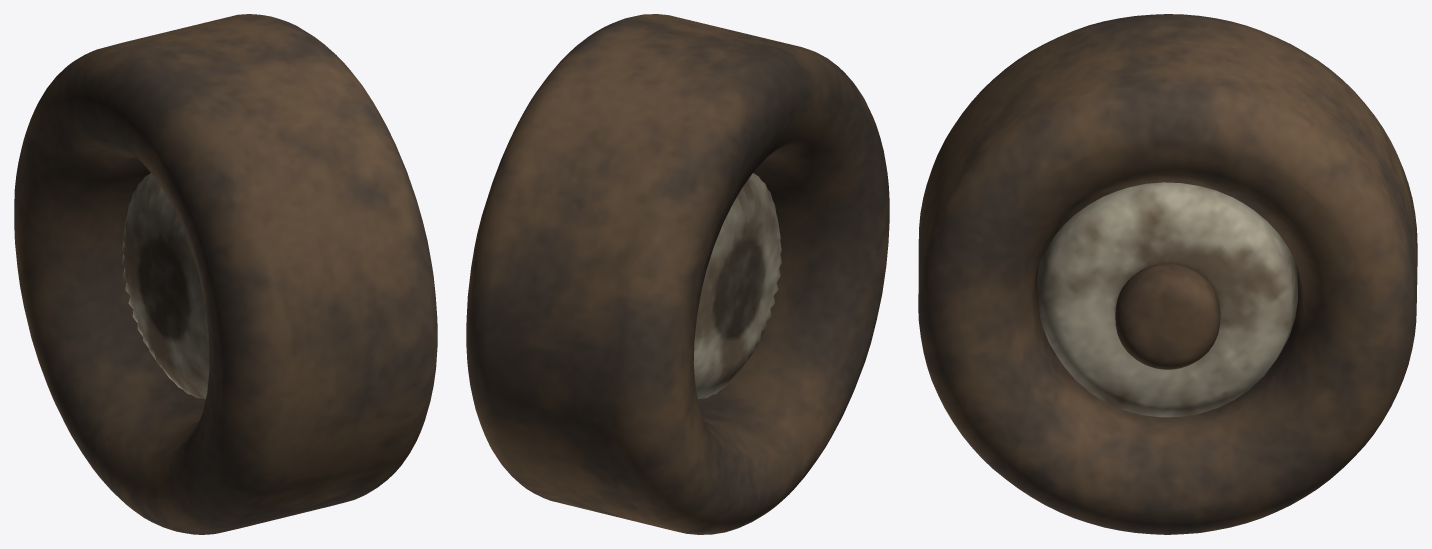
3 renders of one model, left to right at view 1: azimuth 30°, elevation 25°; view 2: azimuth 150°, elevation 25°; view 3: azimuth 270°, elevation 25°, orthographic.
Parts seen in each view (by area): view 1: wheel_RL; view 2: wheel_RL; view 3: wheel_RL.
Boxes of the visible parts, x1,y1,x2,y2 form: wheel_RL: [14, 14, 437, 534]; wheel_RL: [466, 14, 889, 534]; wheel_RL: [918, 14, 1417, 534].
Bounding box in the file's own units: 0.1656 × 0.3293 × 0.3293.
Materials: 1 (1 with a texture image).
